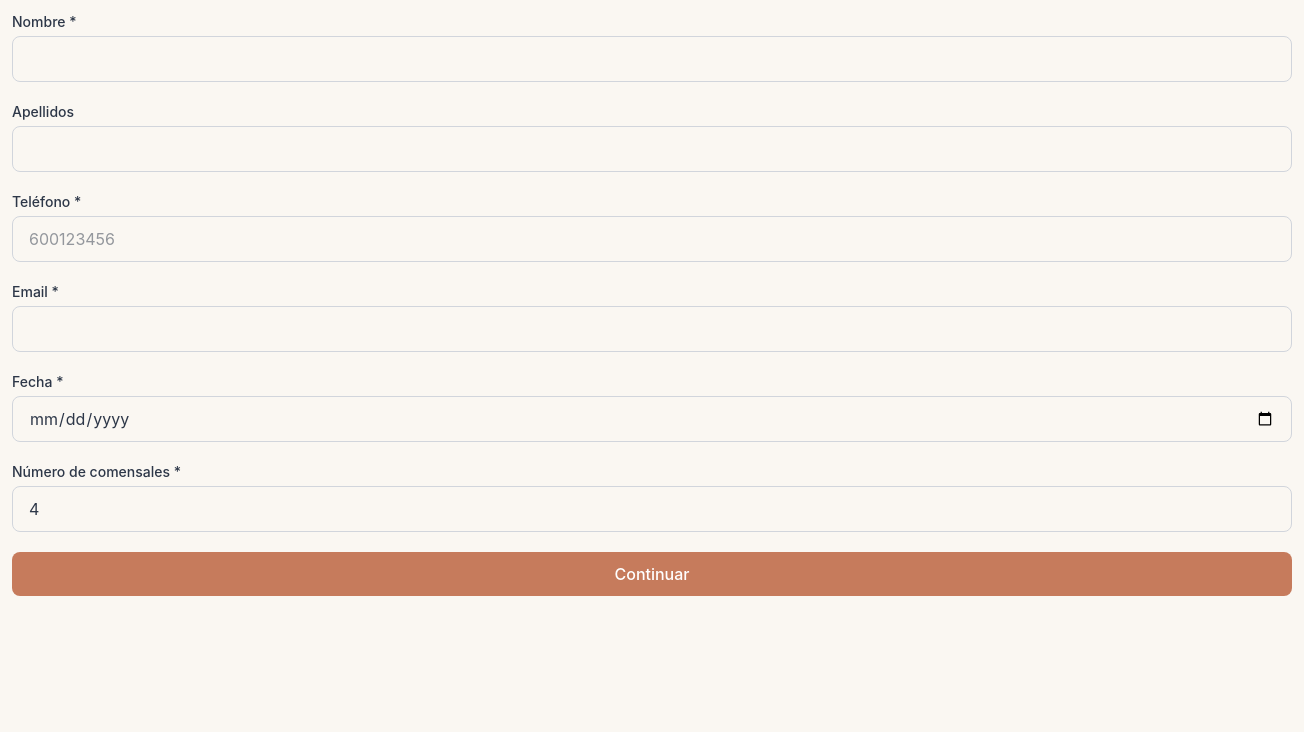
ReservationForm (RF-001 + SLA slots) › rejects invalid Spanish phone
The width and height of the screenshot is (1304, 732).
Type "12345" into the field with id "telefono".
click(652, 239); type("12345")  # box top-left (12, 216), bottom-right (1292, 262)
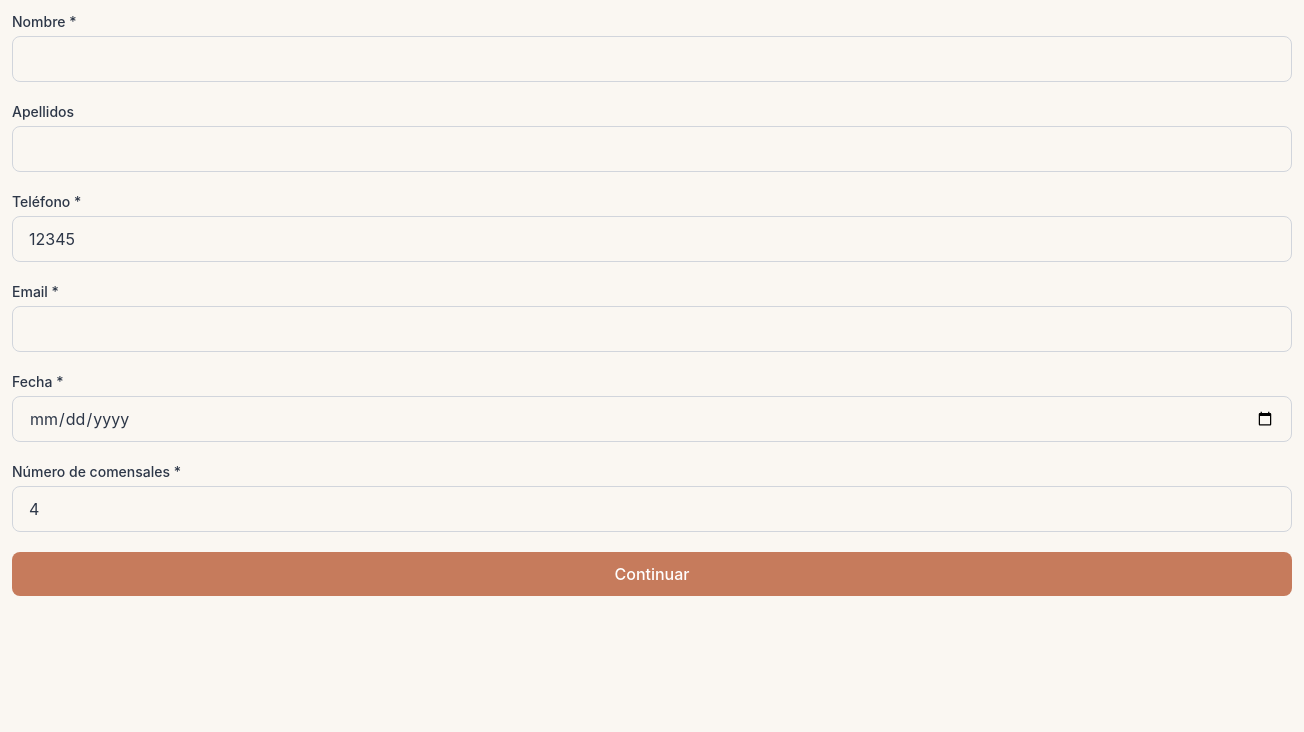
Submit the form
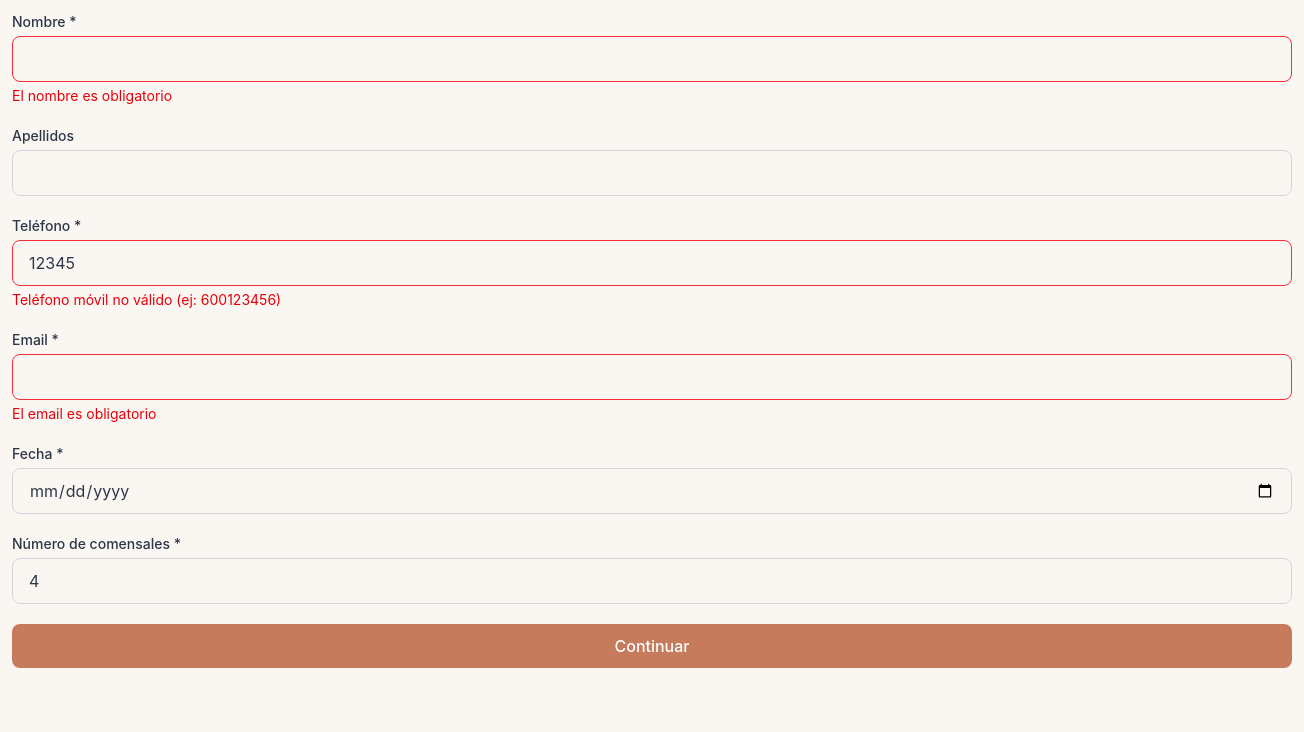
Result: the form shows "Teléfono móvil no válido" at top-left (12, 291), bottom-right (281, 308)
